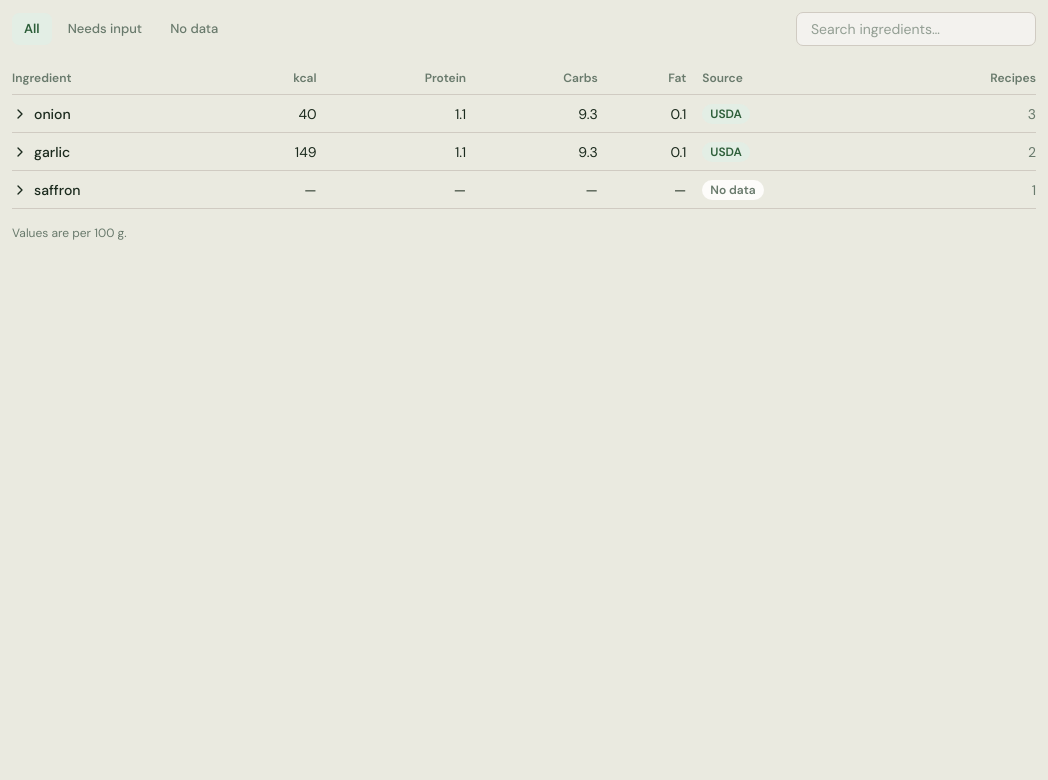
Test: IngredientNutritionTable › shows the route error inline
This screenshot has width=1048, height=780.
Click the button "garlic".
click(41, 152)  # box [12,142,70,162]
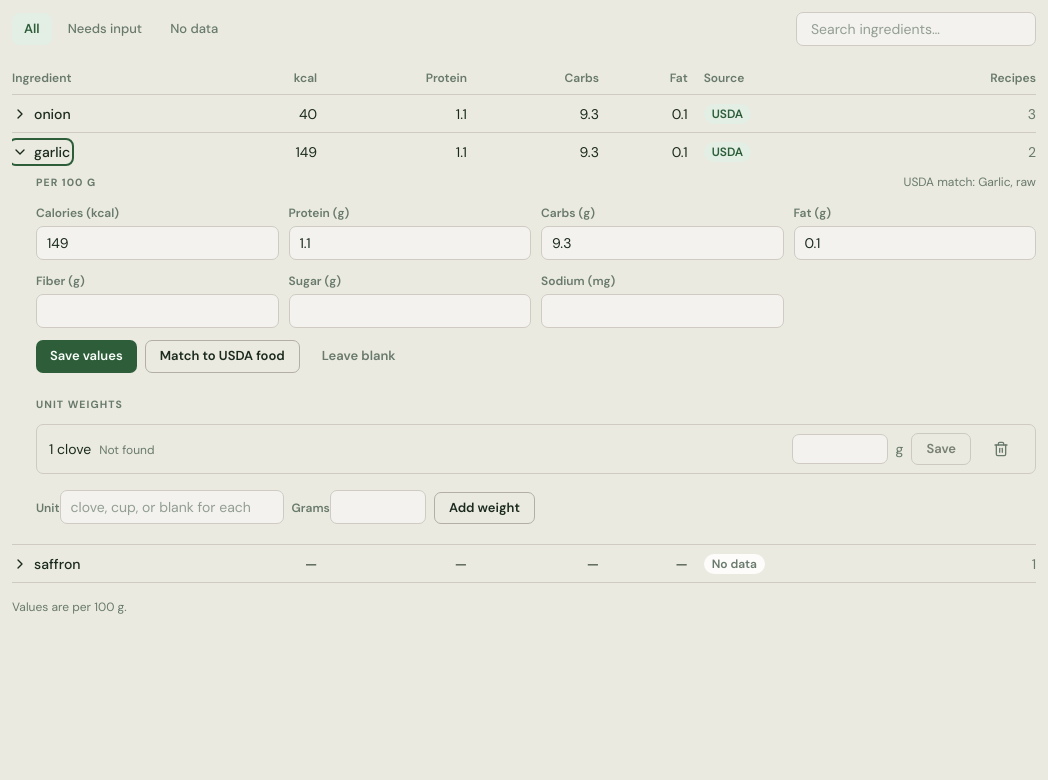
Click the button "Leave blank".
click(359, 356)  # box [308,340,410,373]
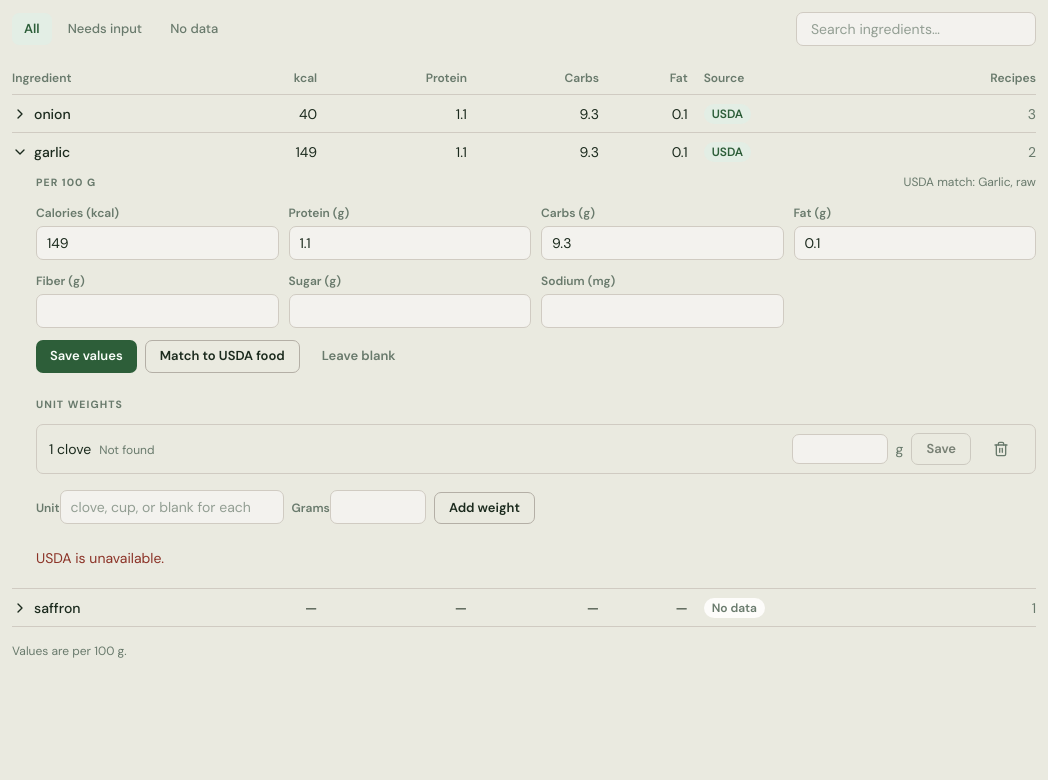
Expected: the message reads "USDA is unavailable.", [36,549,164,567]
